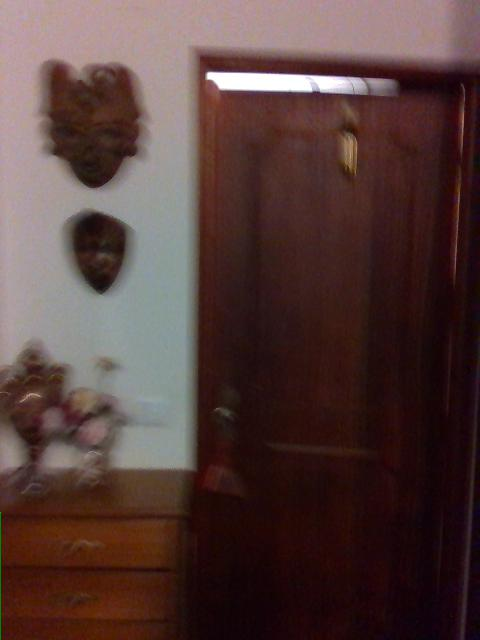door: (193, 45, 478, 639)
